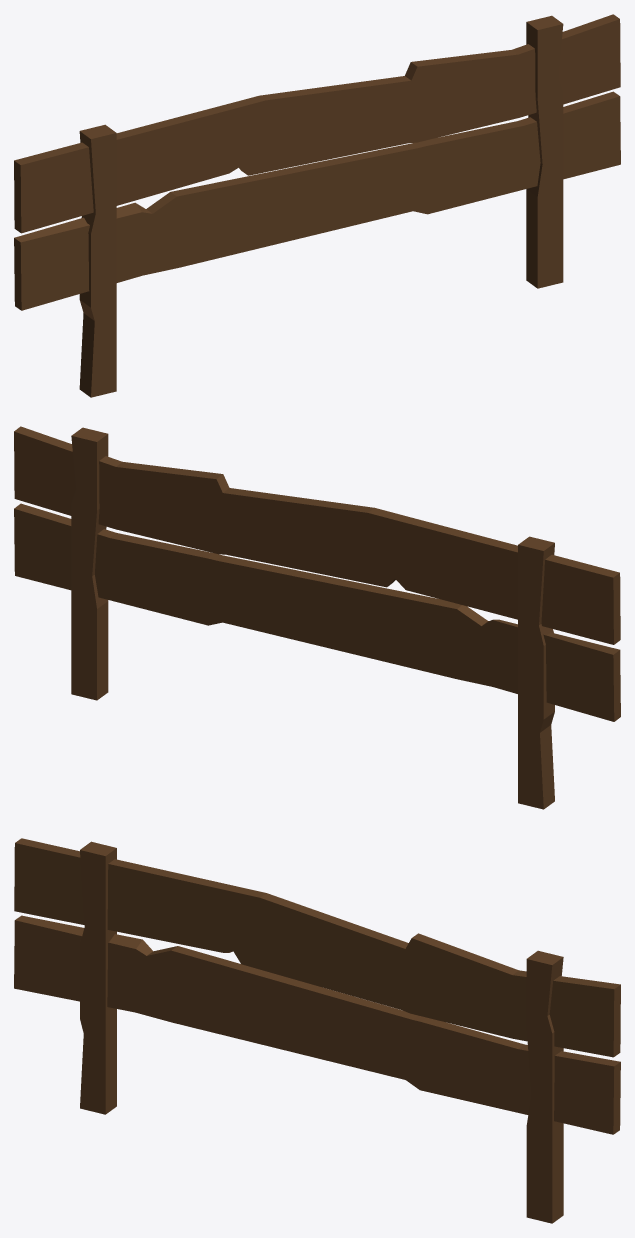
File: fence.glb
3 views of the same model, one above another, from view 1: azimuth 30°, elevation 25°; view 2: azimuth 150°, elevation 25°; view 3: azimuth 330°, elevation 25° (orthographic).
Parts seen in each view (by area): view 1: Fence; view 2: Fence; view 3: Fence.
Part boxes in pixels (<box>): Fence: <box>14,14,620,397</box>; Fence: <box>14,426,620,809</box>; Fence: <box>14,838,620,1223</box>.
Size of the model in its own units: 0.791 by 0.326 by 0.0259.
